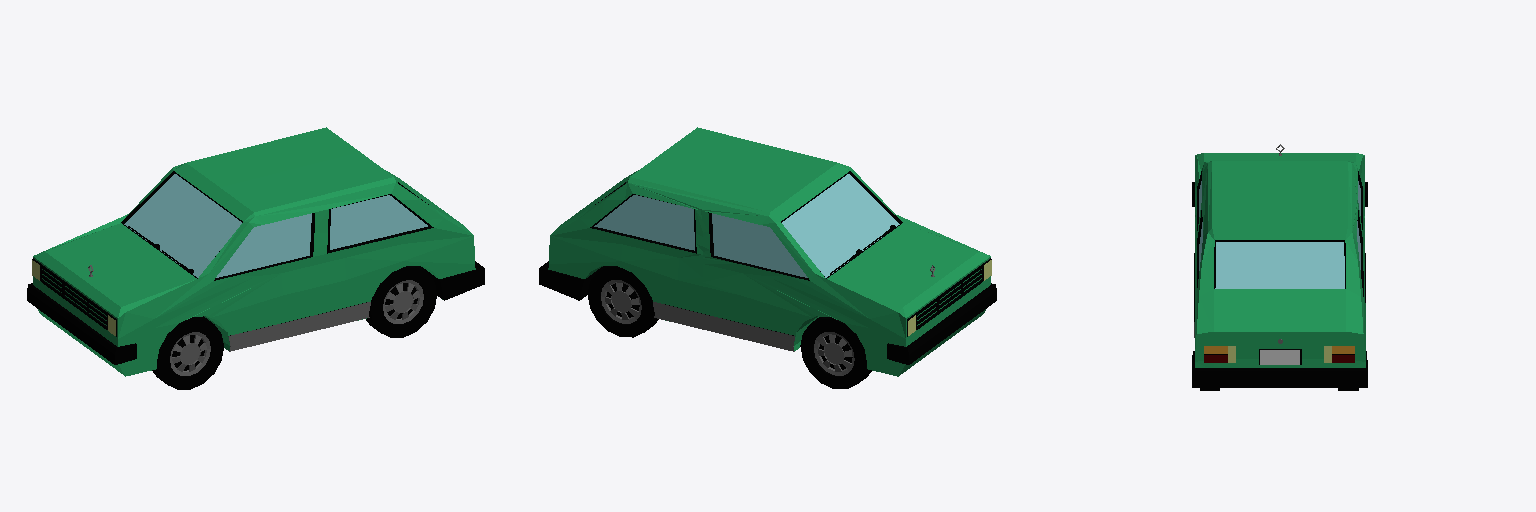
Rendered from car_green.obj.
3 renders of one model, left to right at view 1: azimuth 30°, elevation 25°; view 2: azimuth 150°, elevation 25°; view 3: azimuth 270°, elevation 25°, orthographic.
Parts seen in each view (by area): view 1: car; view 2: car; view 3: car.
Boxes of the visible parts, <box> form: car: <box>27,127,484,389</box>; car: <box>539,127,996,388</box>; car: <box>1192,144,1367,390</box>.
Size of the model in its own units: 20.62 by 8.35 by 8.49.